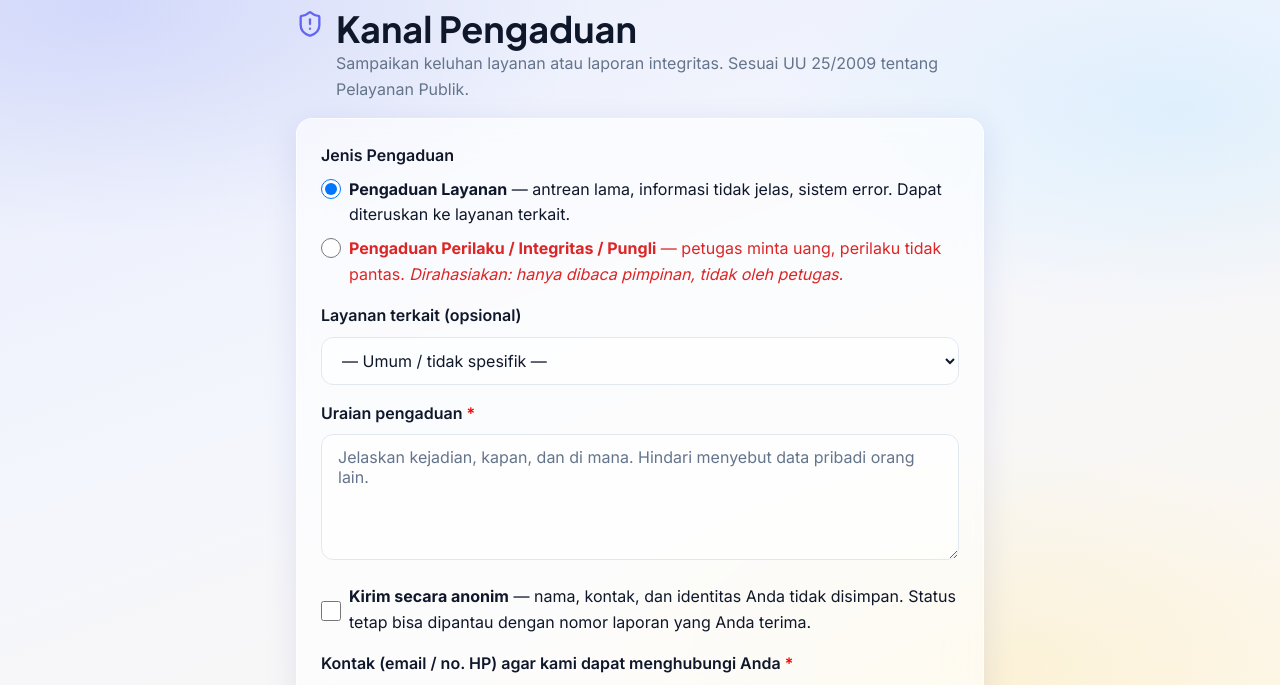
Test case: /pengaduan (publik, anonim) › mencentang anonim menyembunyikan kontak dan MENGOSONGKAN kontak yang sudah terlanjur diketik
Replace the text in the text box labelled "Uraian pengaduan *" with "Petugas meminta uang di luar tarif resmi saat saya mengurus izin." at (640, 497), box x1=321 y1=434 x2=959 y2=560
(page scrolled)
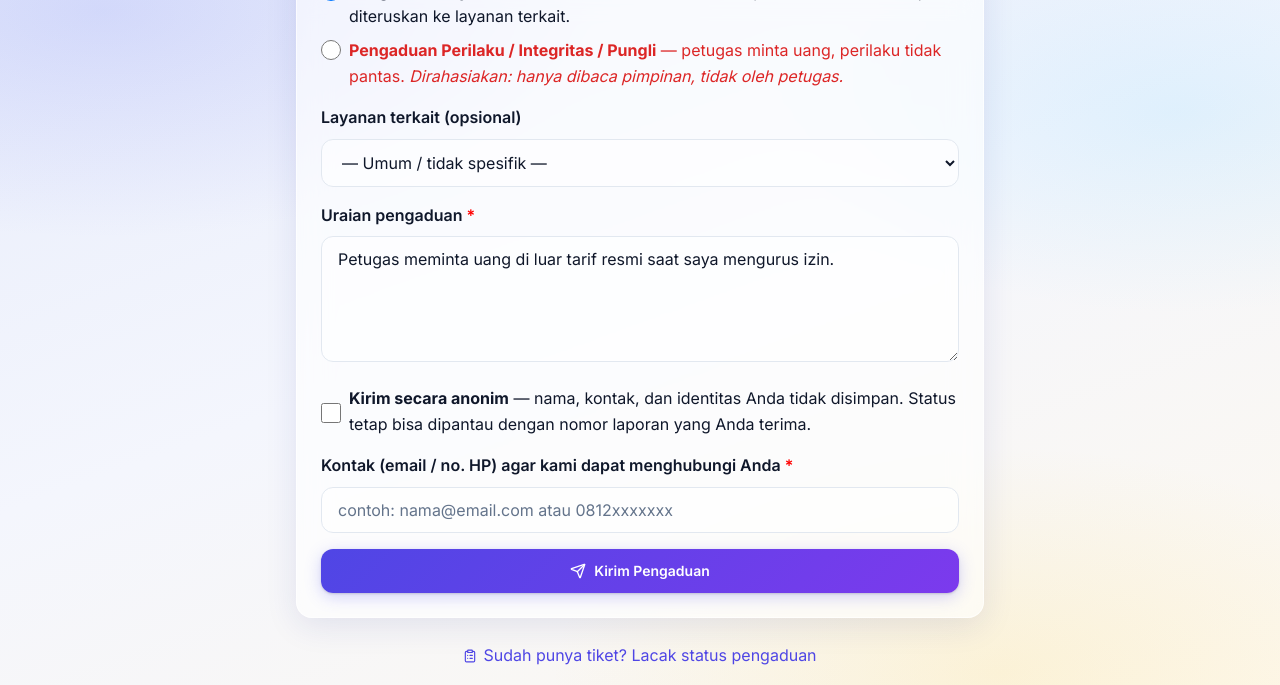
Type "081234567890" into the field labelled "Kontak (email / no. HP) agar kami dapat menghubungi Anda *" at (640, 510), box x1=321 y1=487 x2=959 y2=533
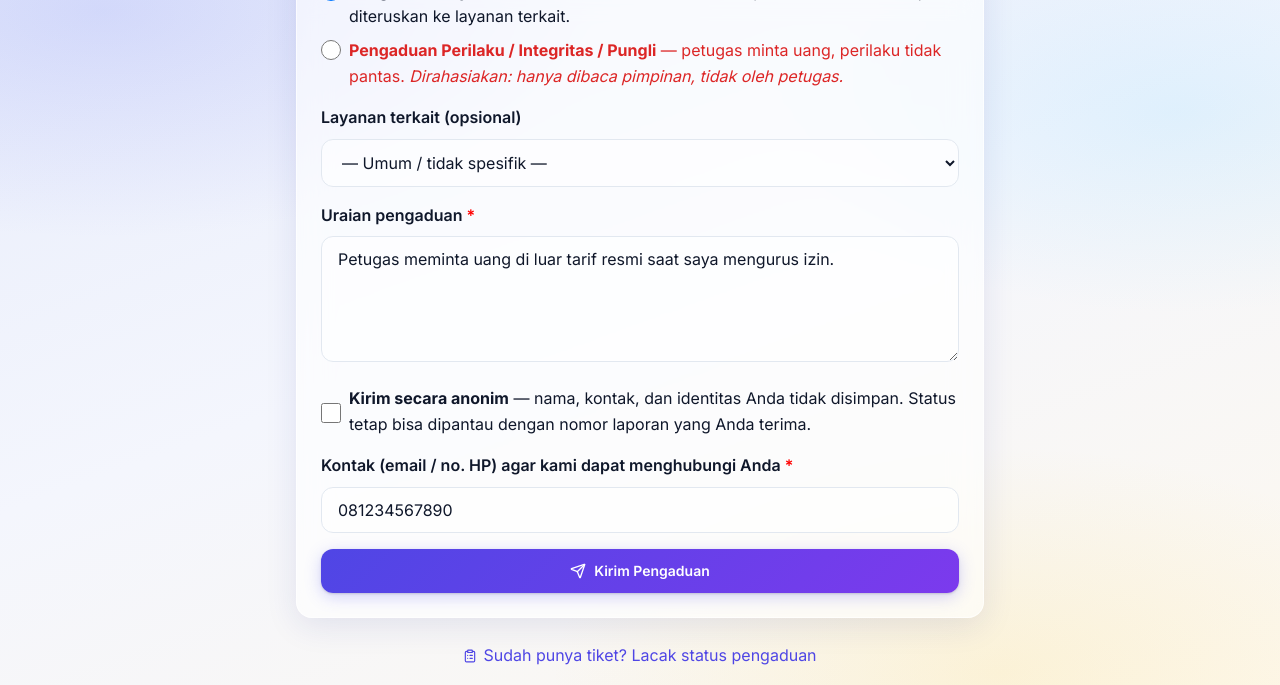
Click the checkbox labelled "Kirim secara anonim" at (331, 412), box x1=321 y1=402 x2=341 y2=422
(page scrolled)
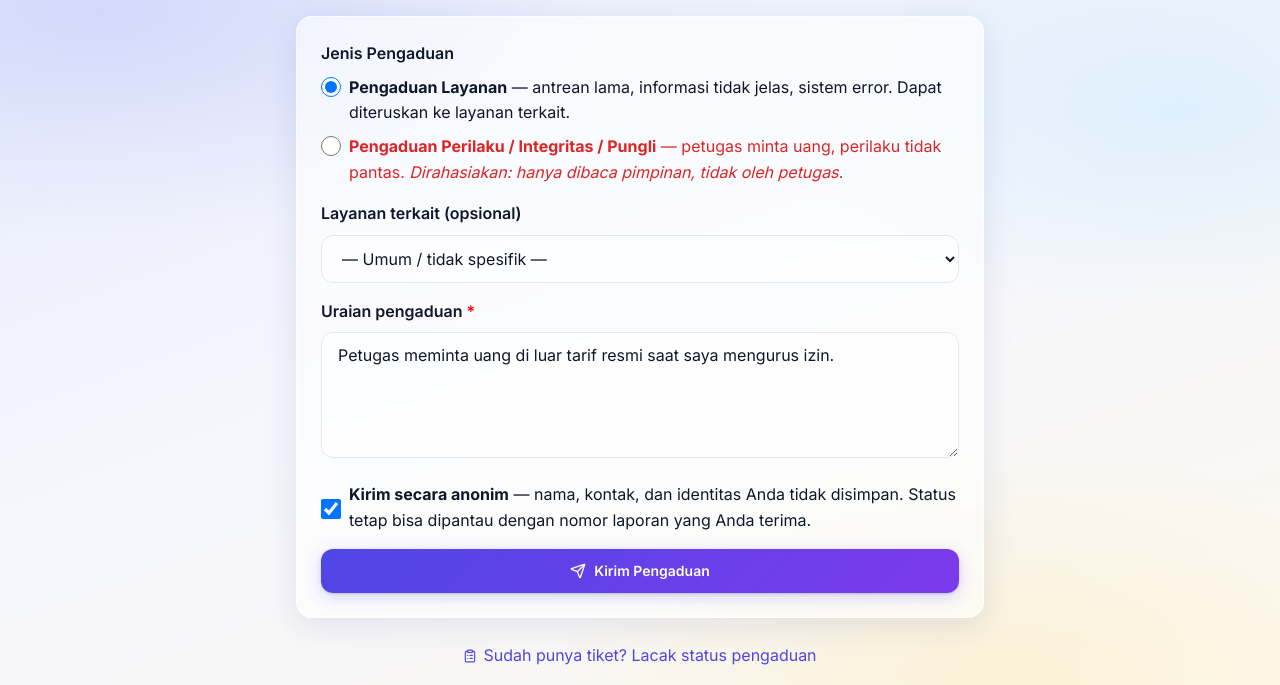
Click the button "Kirim Pengaduan" at (640, 571), box x1=321 y1=549 x2=959 y2=593
(page scrolled)
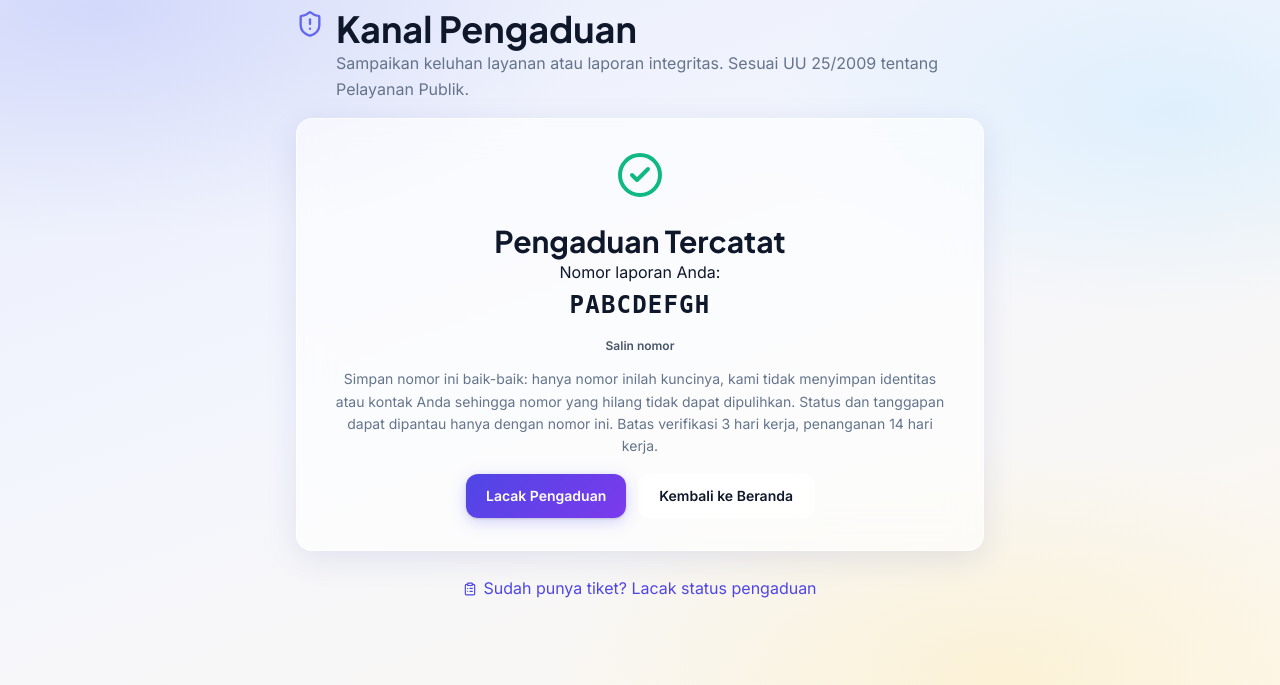
Result: the text "PABCDEFGH" is shown at x1=570 y1=291 x2=710 y2=319
